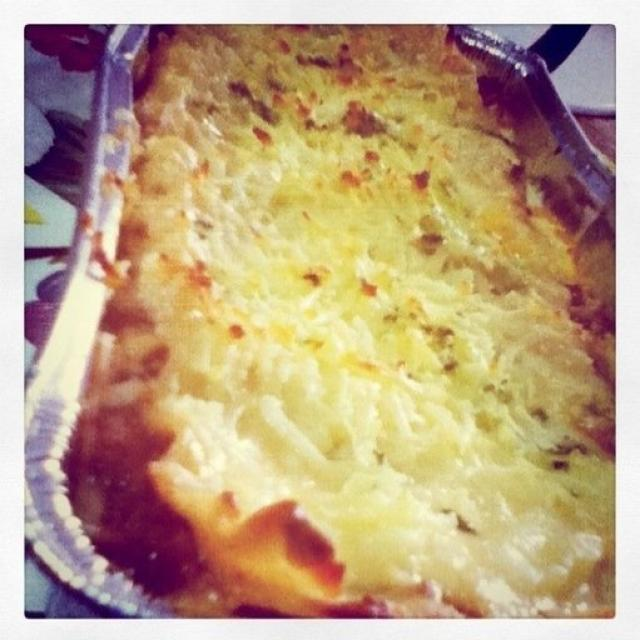Lasagna: (118, 43, 592, 595)
